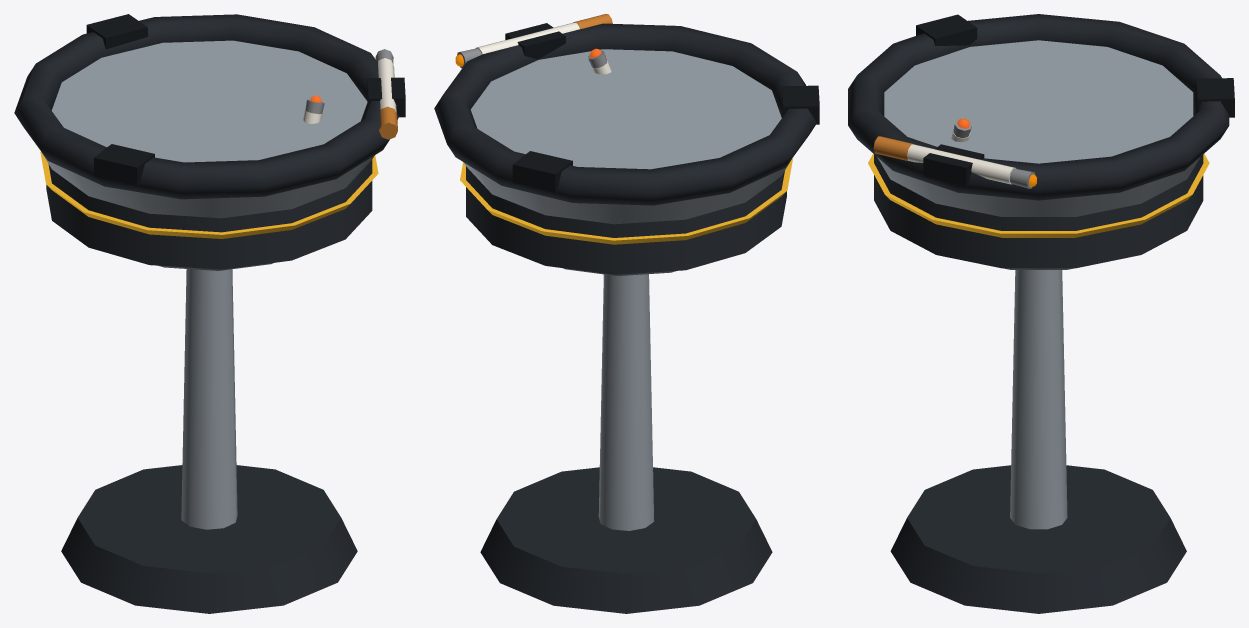
The model's file is lowpoly-ashtray.glb.
3 views of the same model, side by side, from view 1: azimuth 30°, elevation 25°; view 2: azimuth 150°, elevation 25°; view 3: azimuth 270°, elevation 25° (orthographic).
Size of the model in its own units: 0.9747 by 1.25 by 0.9394.
